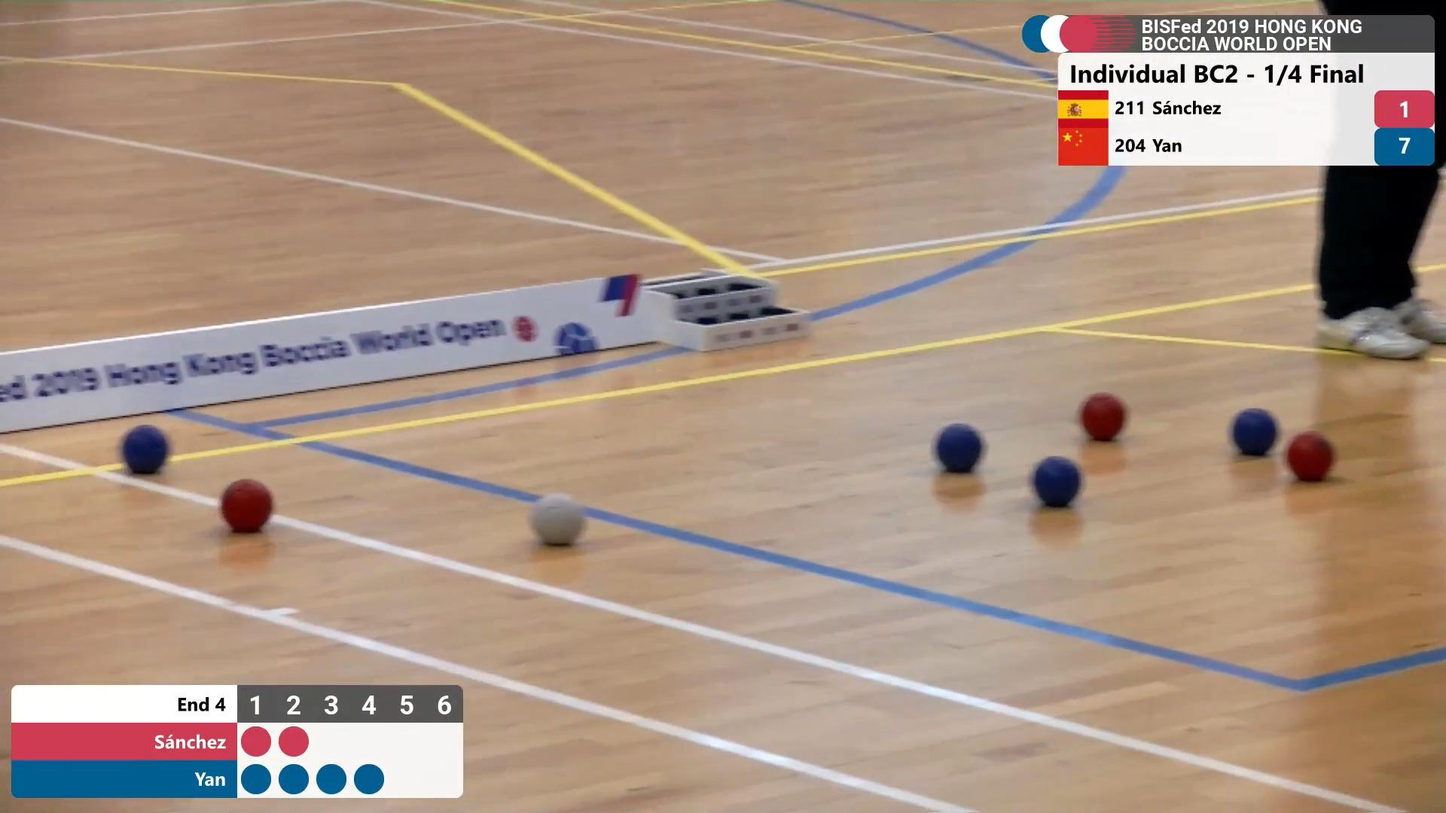blue_ball: (926, 420, 988, 479), (1027, 454, 1088, 513), (113, 421, 174, 479), (1223, 402, 1282, 461)
red_ball: (217, 475, 276, 536), (1074, 390, 1131, 447), (1283, 429, 1338, 487)
white_ball: (525, 491, 587, 552)
